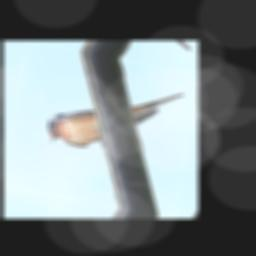Swallow: (44, 68, 184, 166)
